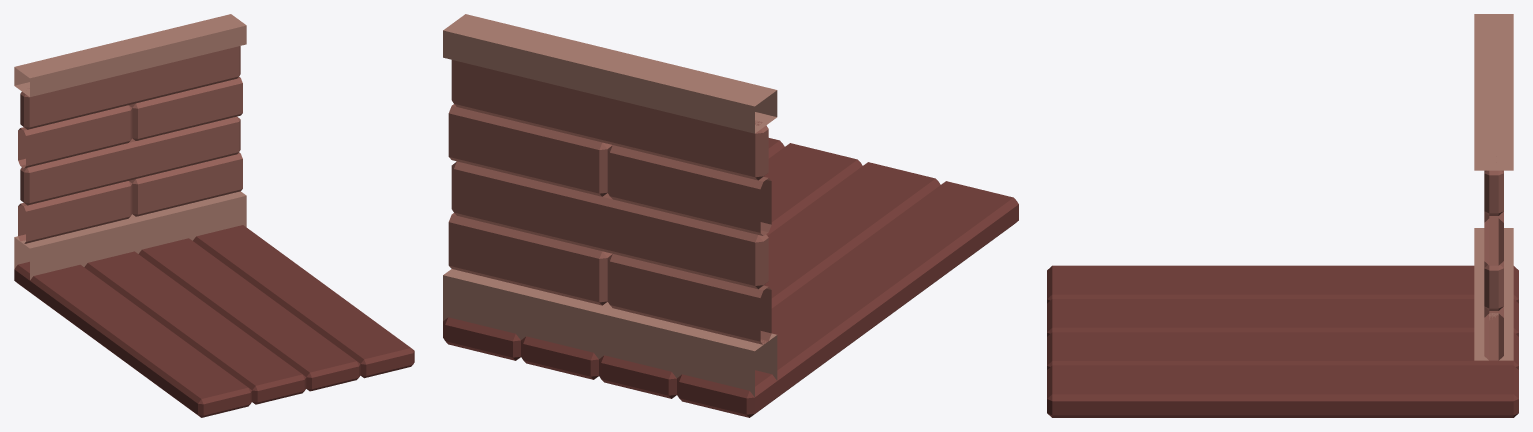
The model's file is BalconyCenter.fbx.
3 renders of one model, left to right at view 1: azimuth 30°, elevation 25°; view 2: azimuth 150°, elevation 25°; view 3: azimuth 270°, elevation 25°, orthographic. The views are drawn at different scales.
Visible parts, largest first — view 1: BalconyCenter; view 2: BalconyCenter; view 3: BalconyCenter.
Boxes of the visible parts, <box> form: BalconyCenter: <box>14,14,414,417</box>; BalconyCenter: <box>443,14,1018,417</box>; BalconyCenter: <box>1047,14,1518,417</box>.
Size of the model in its own units: 1.2 by 1.8 by 1.15.
